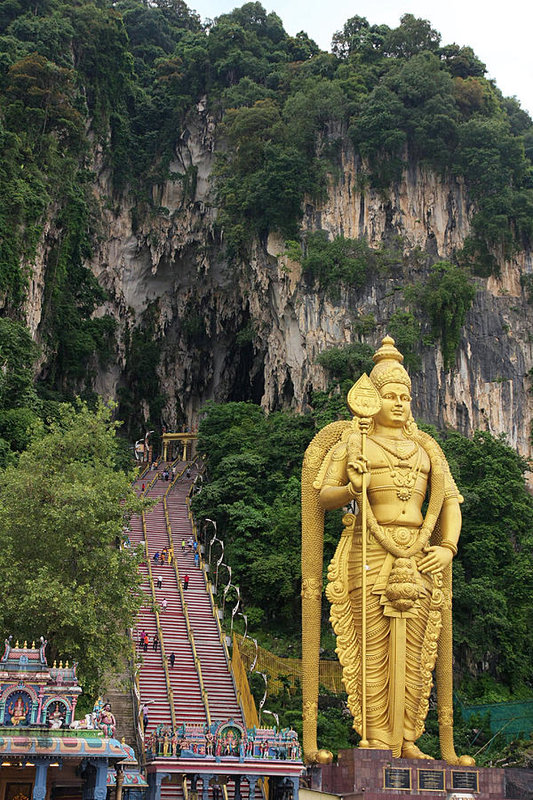Hindu Temple: (286, 325, 461, 747)
